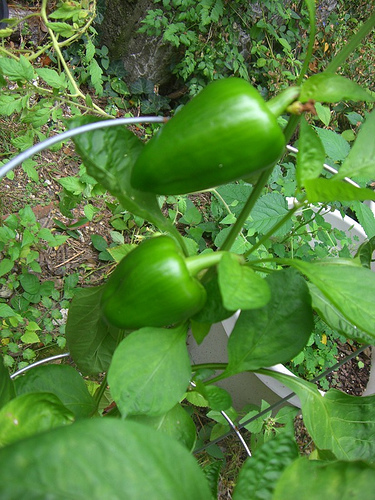capsicum: (128, 77, 301, 197), (100, 233, 207, 331)
